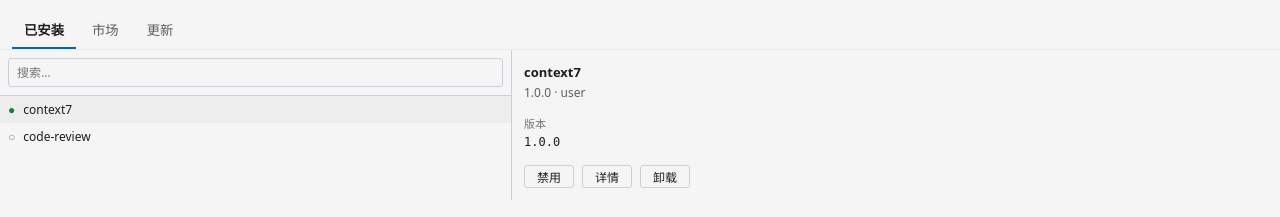
Test: 插件面板：已安装 › 选中后详情区显示字段
Click the text "code-review": (57, 137) [23,128,91,145]
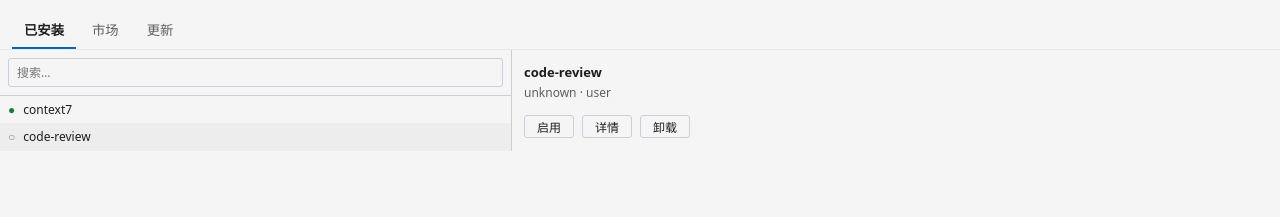
Expected: the 1st text "code-review" is shown, [524,63,602,81]
